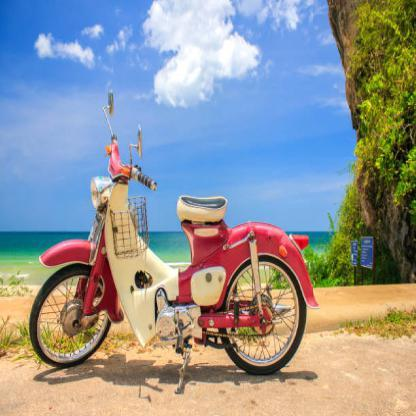Motorcycle: (16, 87, 319, 397)
